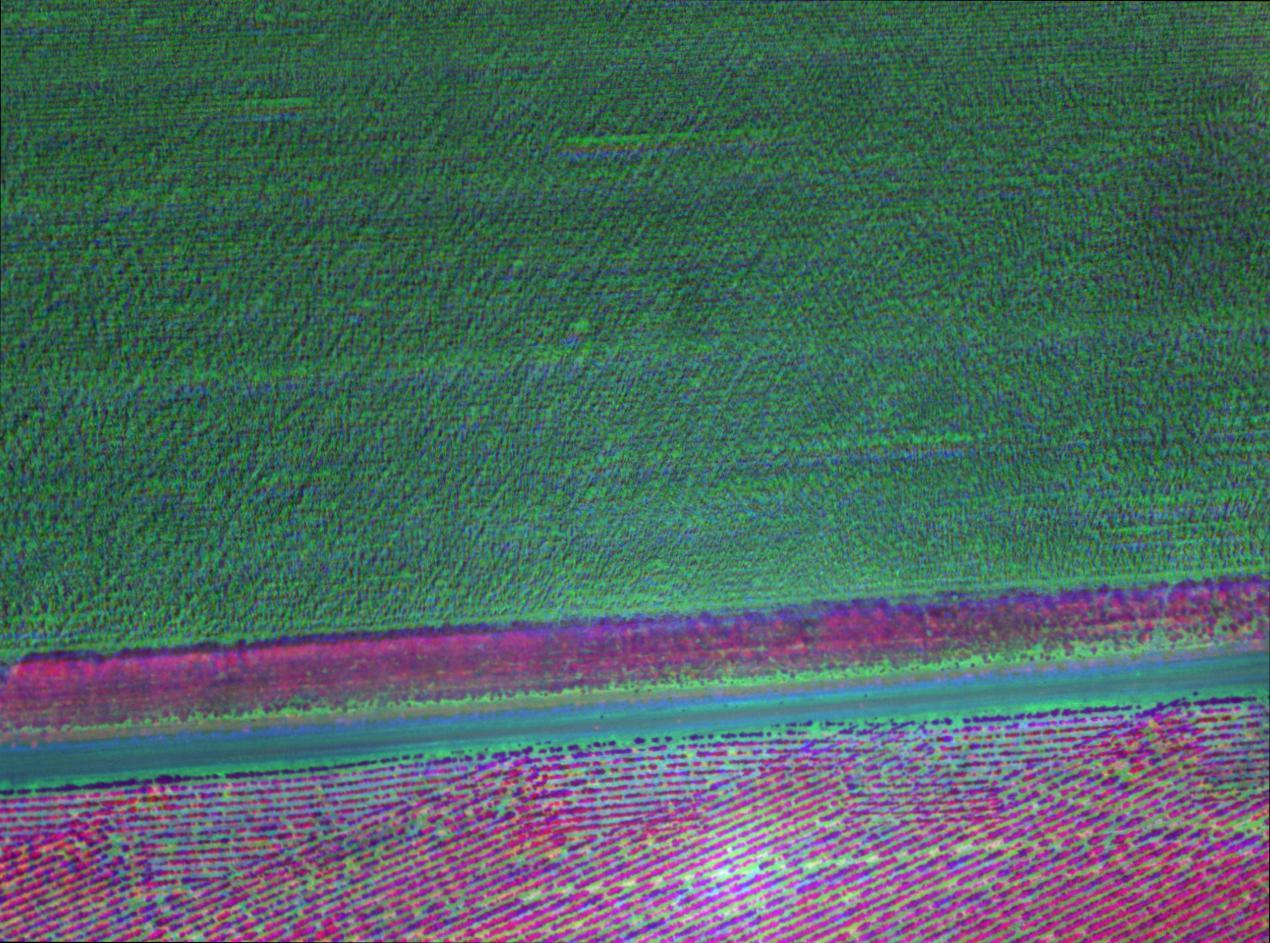dc: (869, 856, 875, 862), (1238, 821, 1243, 828), (686, 874, 691, 881), (962, 845, 967, 851), (131, 900, 135, 905), (349, 865, 355, 868), (310, 881, 314, 885)
